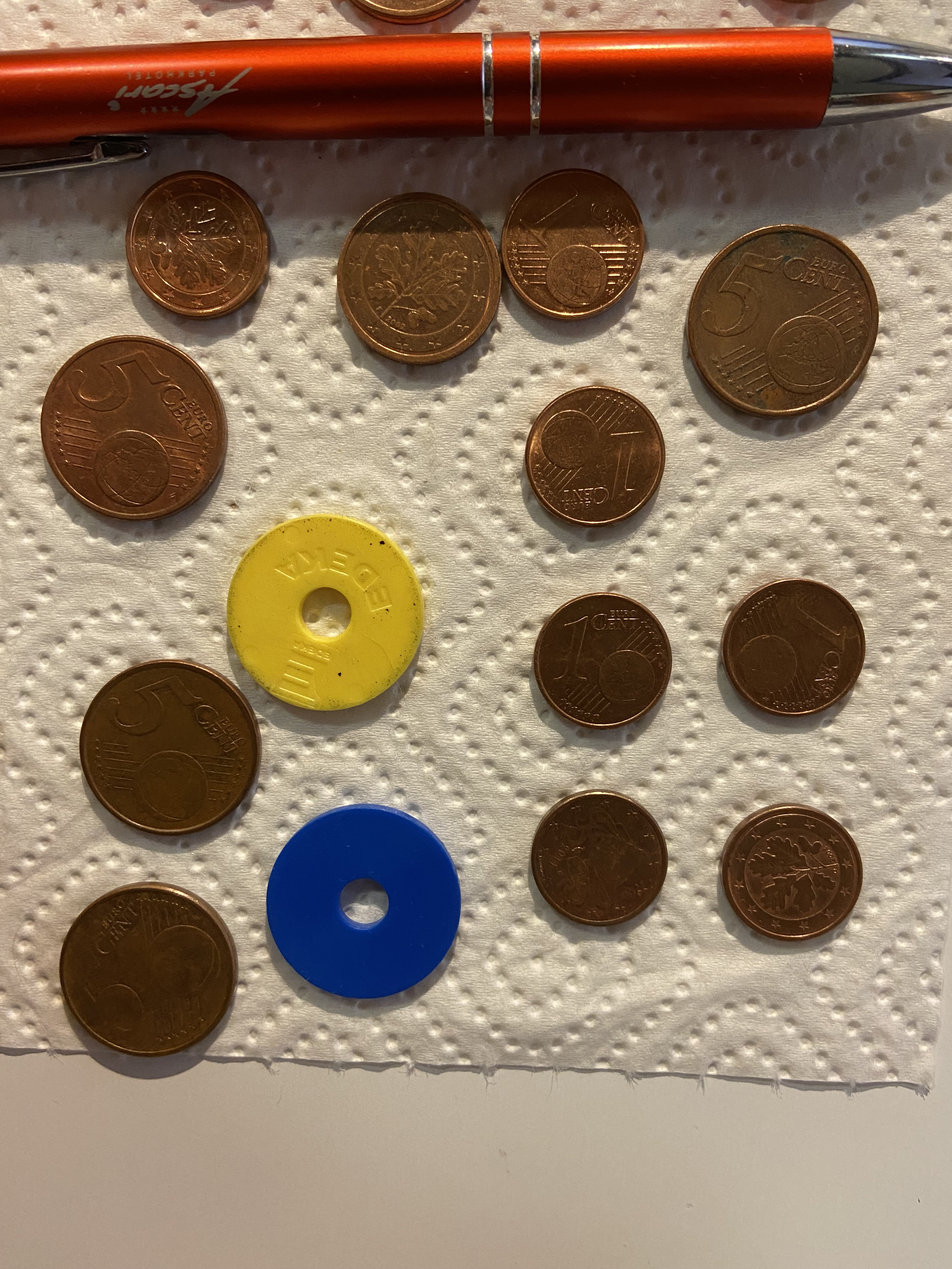1 cent: (121, 168, 278, 322), (491, 168, 648, 321), (717, 802, 867, 945), (522, 385, 666, 531), (720, 575, 865, 718), (532, 788, 674, 931), (534, 588, 675, 731)
2 cent: (331, 189, 507, 364)
5 cent: (681, 224, 882, 427), (38, 332, 232, 522), (78, 657, 262, 838), (60, 879, 243, 1059), (870, 415, 883, 428)
